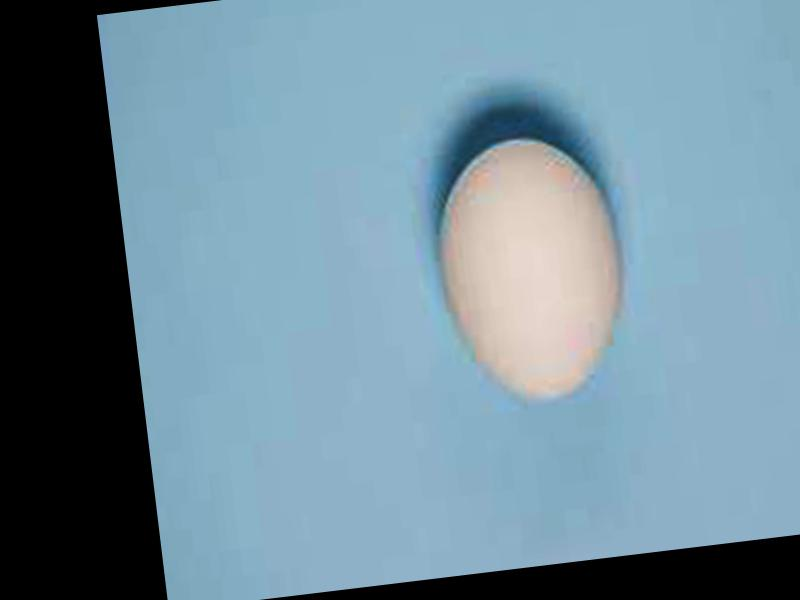Eggs: (429, 128, 637, 413)
